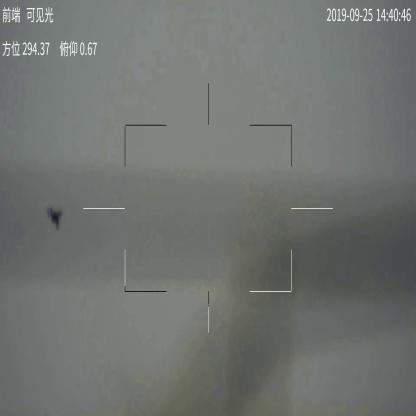uav: (48, 205, 67, 229)
